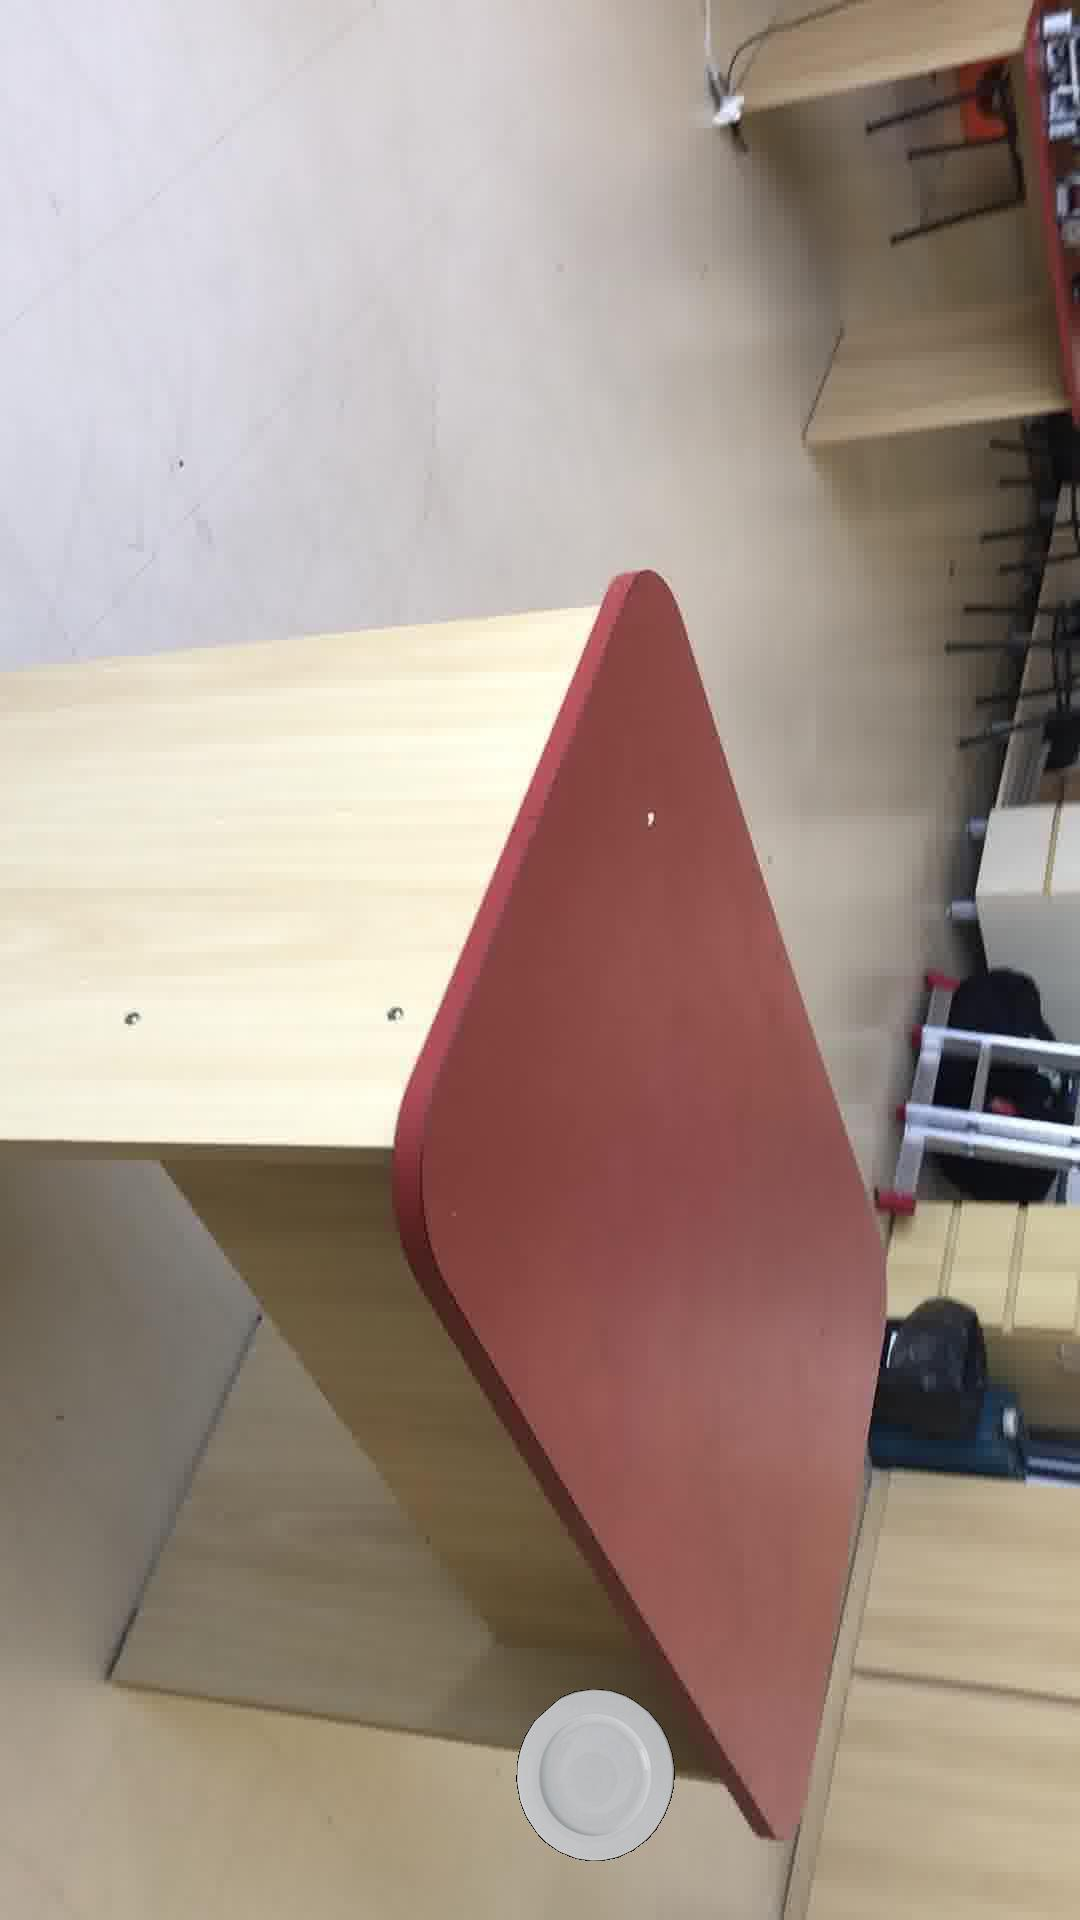plate: (514, 1688, 674, 1859)
